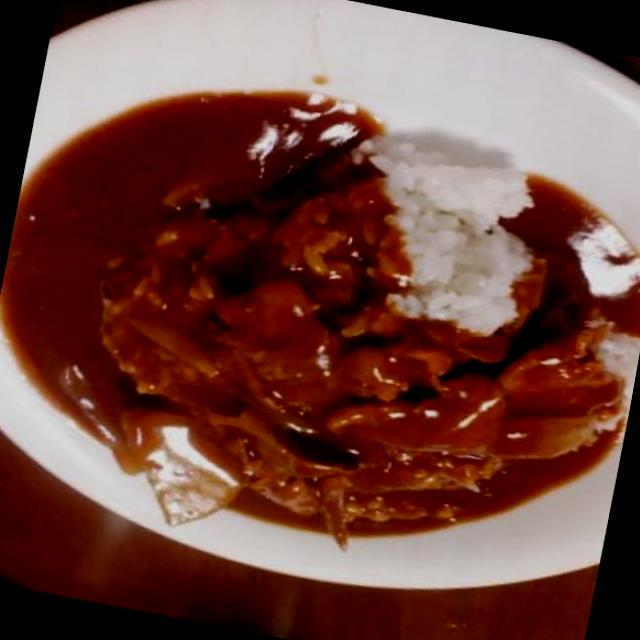Beef Curry: (0, 75, 611, 537)
